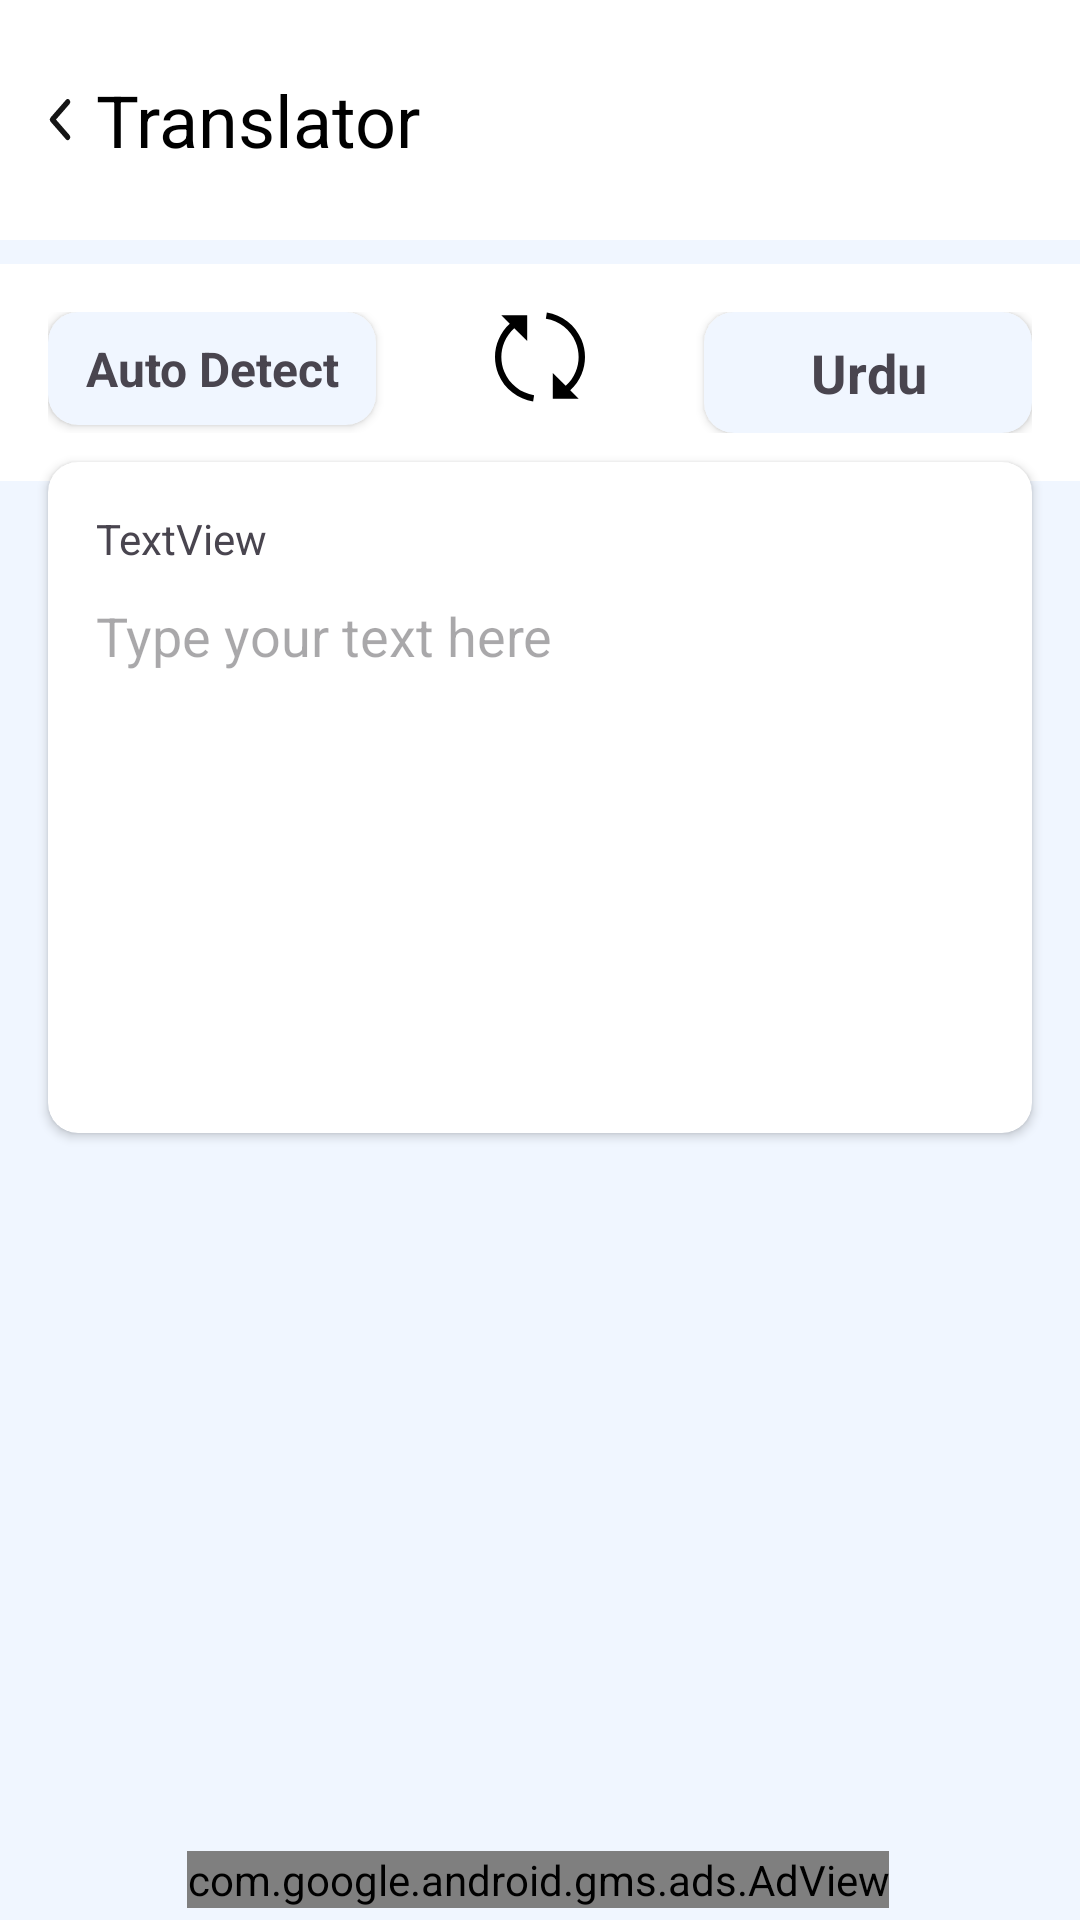

Screen size 1080 × 1920. Icon name, then its box in pixels as [left=x1, top=y1, right=x2, bottom=y2]:
back: [left=49, top=99, right=71, bottom=141]
convert: [left=495, top=312, right=585, bottom=402]
